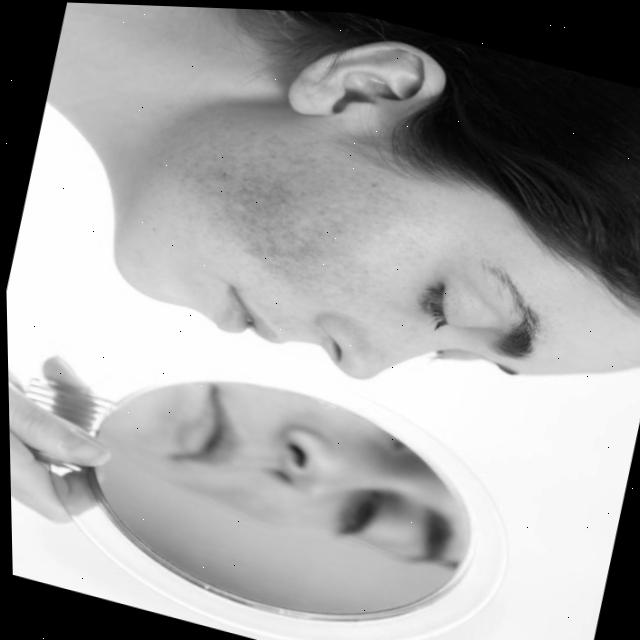Rosacea: (236, 159, 356, 303)
